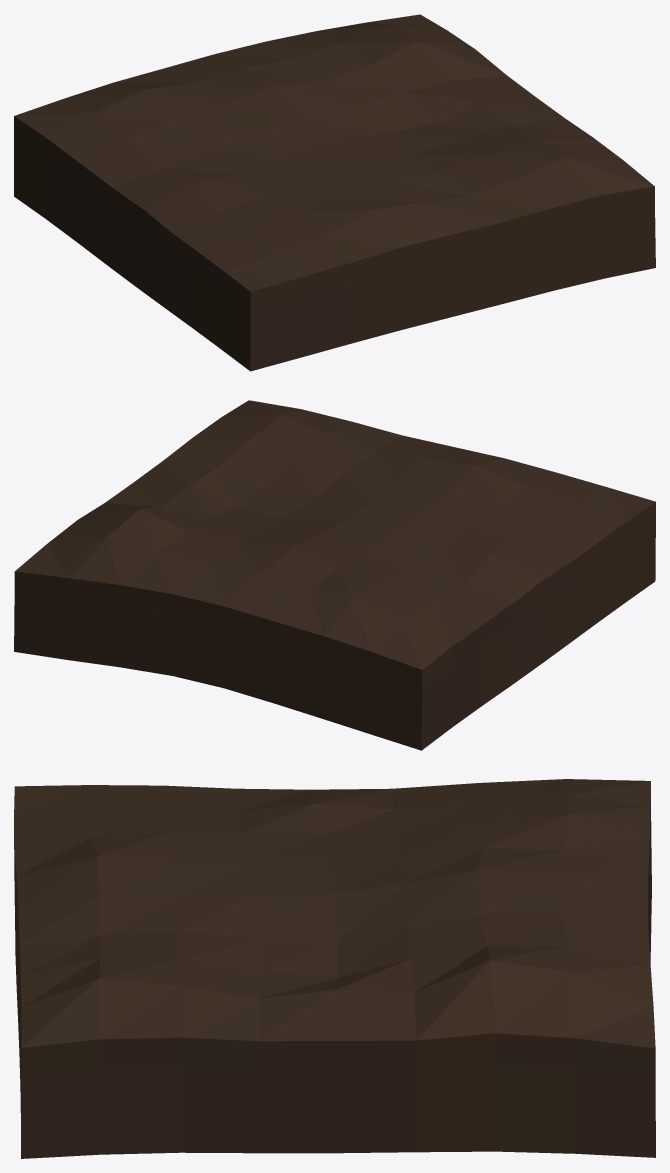
The model's file is MO_Ground_2.fbx.
3 views of the same model, one above another, from view 1: azimuth 30°, elevation 25°; view 2: azimuth 150°, elevation 25°; view 3: azimuth 270°, elevation 25° (orthographic). The views are drawn at different scales.
Visible parts, largest first — view 1: ground_02; view 2: ground_02; view 3: ground_02.
Boxes of the visible parts, x1=… form: ground_02: x1=14, y1=14, x2=655, y2=371; ground_02: x1=14, y1=400, x2=655, y2=750; ground_02: x1=14, y1=779, x2=655, y2=1158.
Size of the model in its own units: 176 by 48.91 by 177.
